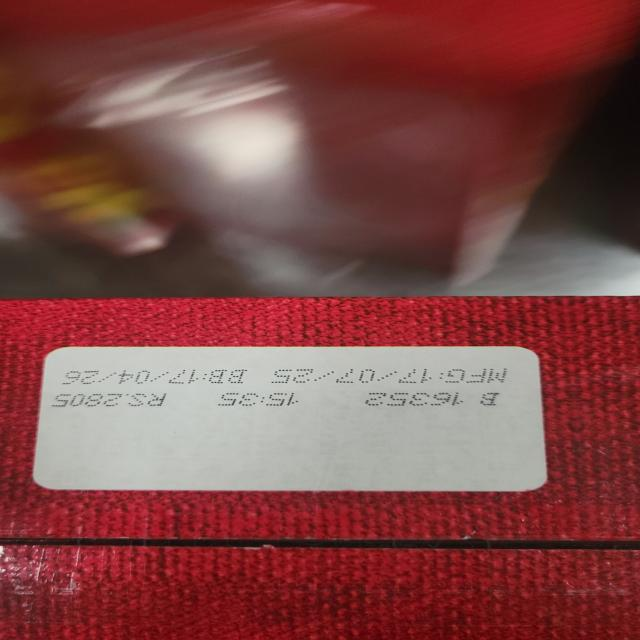BB: (59, 369, 250, 385)
Batch: (359, 392, 502, 407)
MFG: (271, 368, 506, 384)
RS: (48, 393, 170, 408)
TimeStamp: (215, 392, 301, 407)
